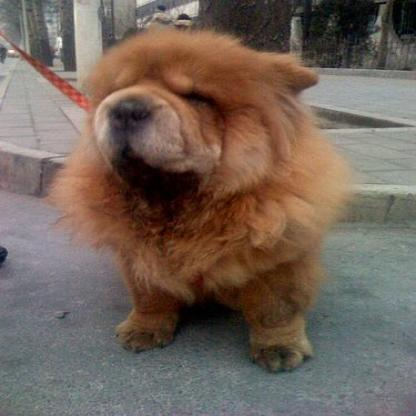chow: (50, 29, 340, 375)
